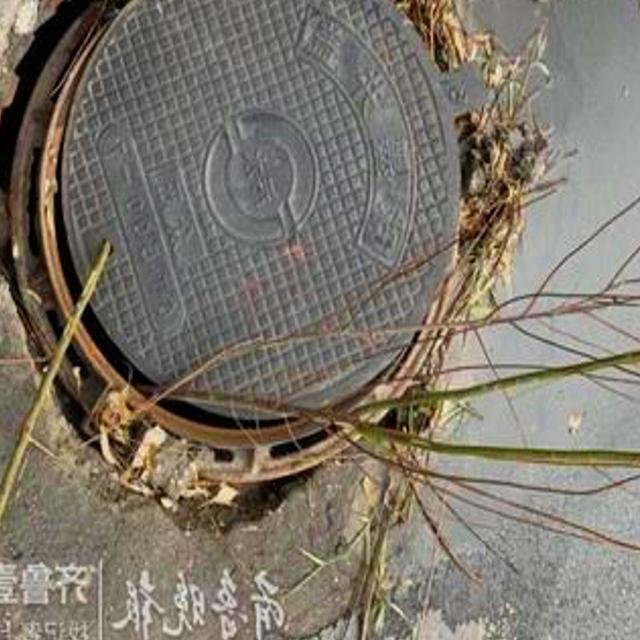circle: (0, 0, 569, 640)
